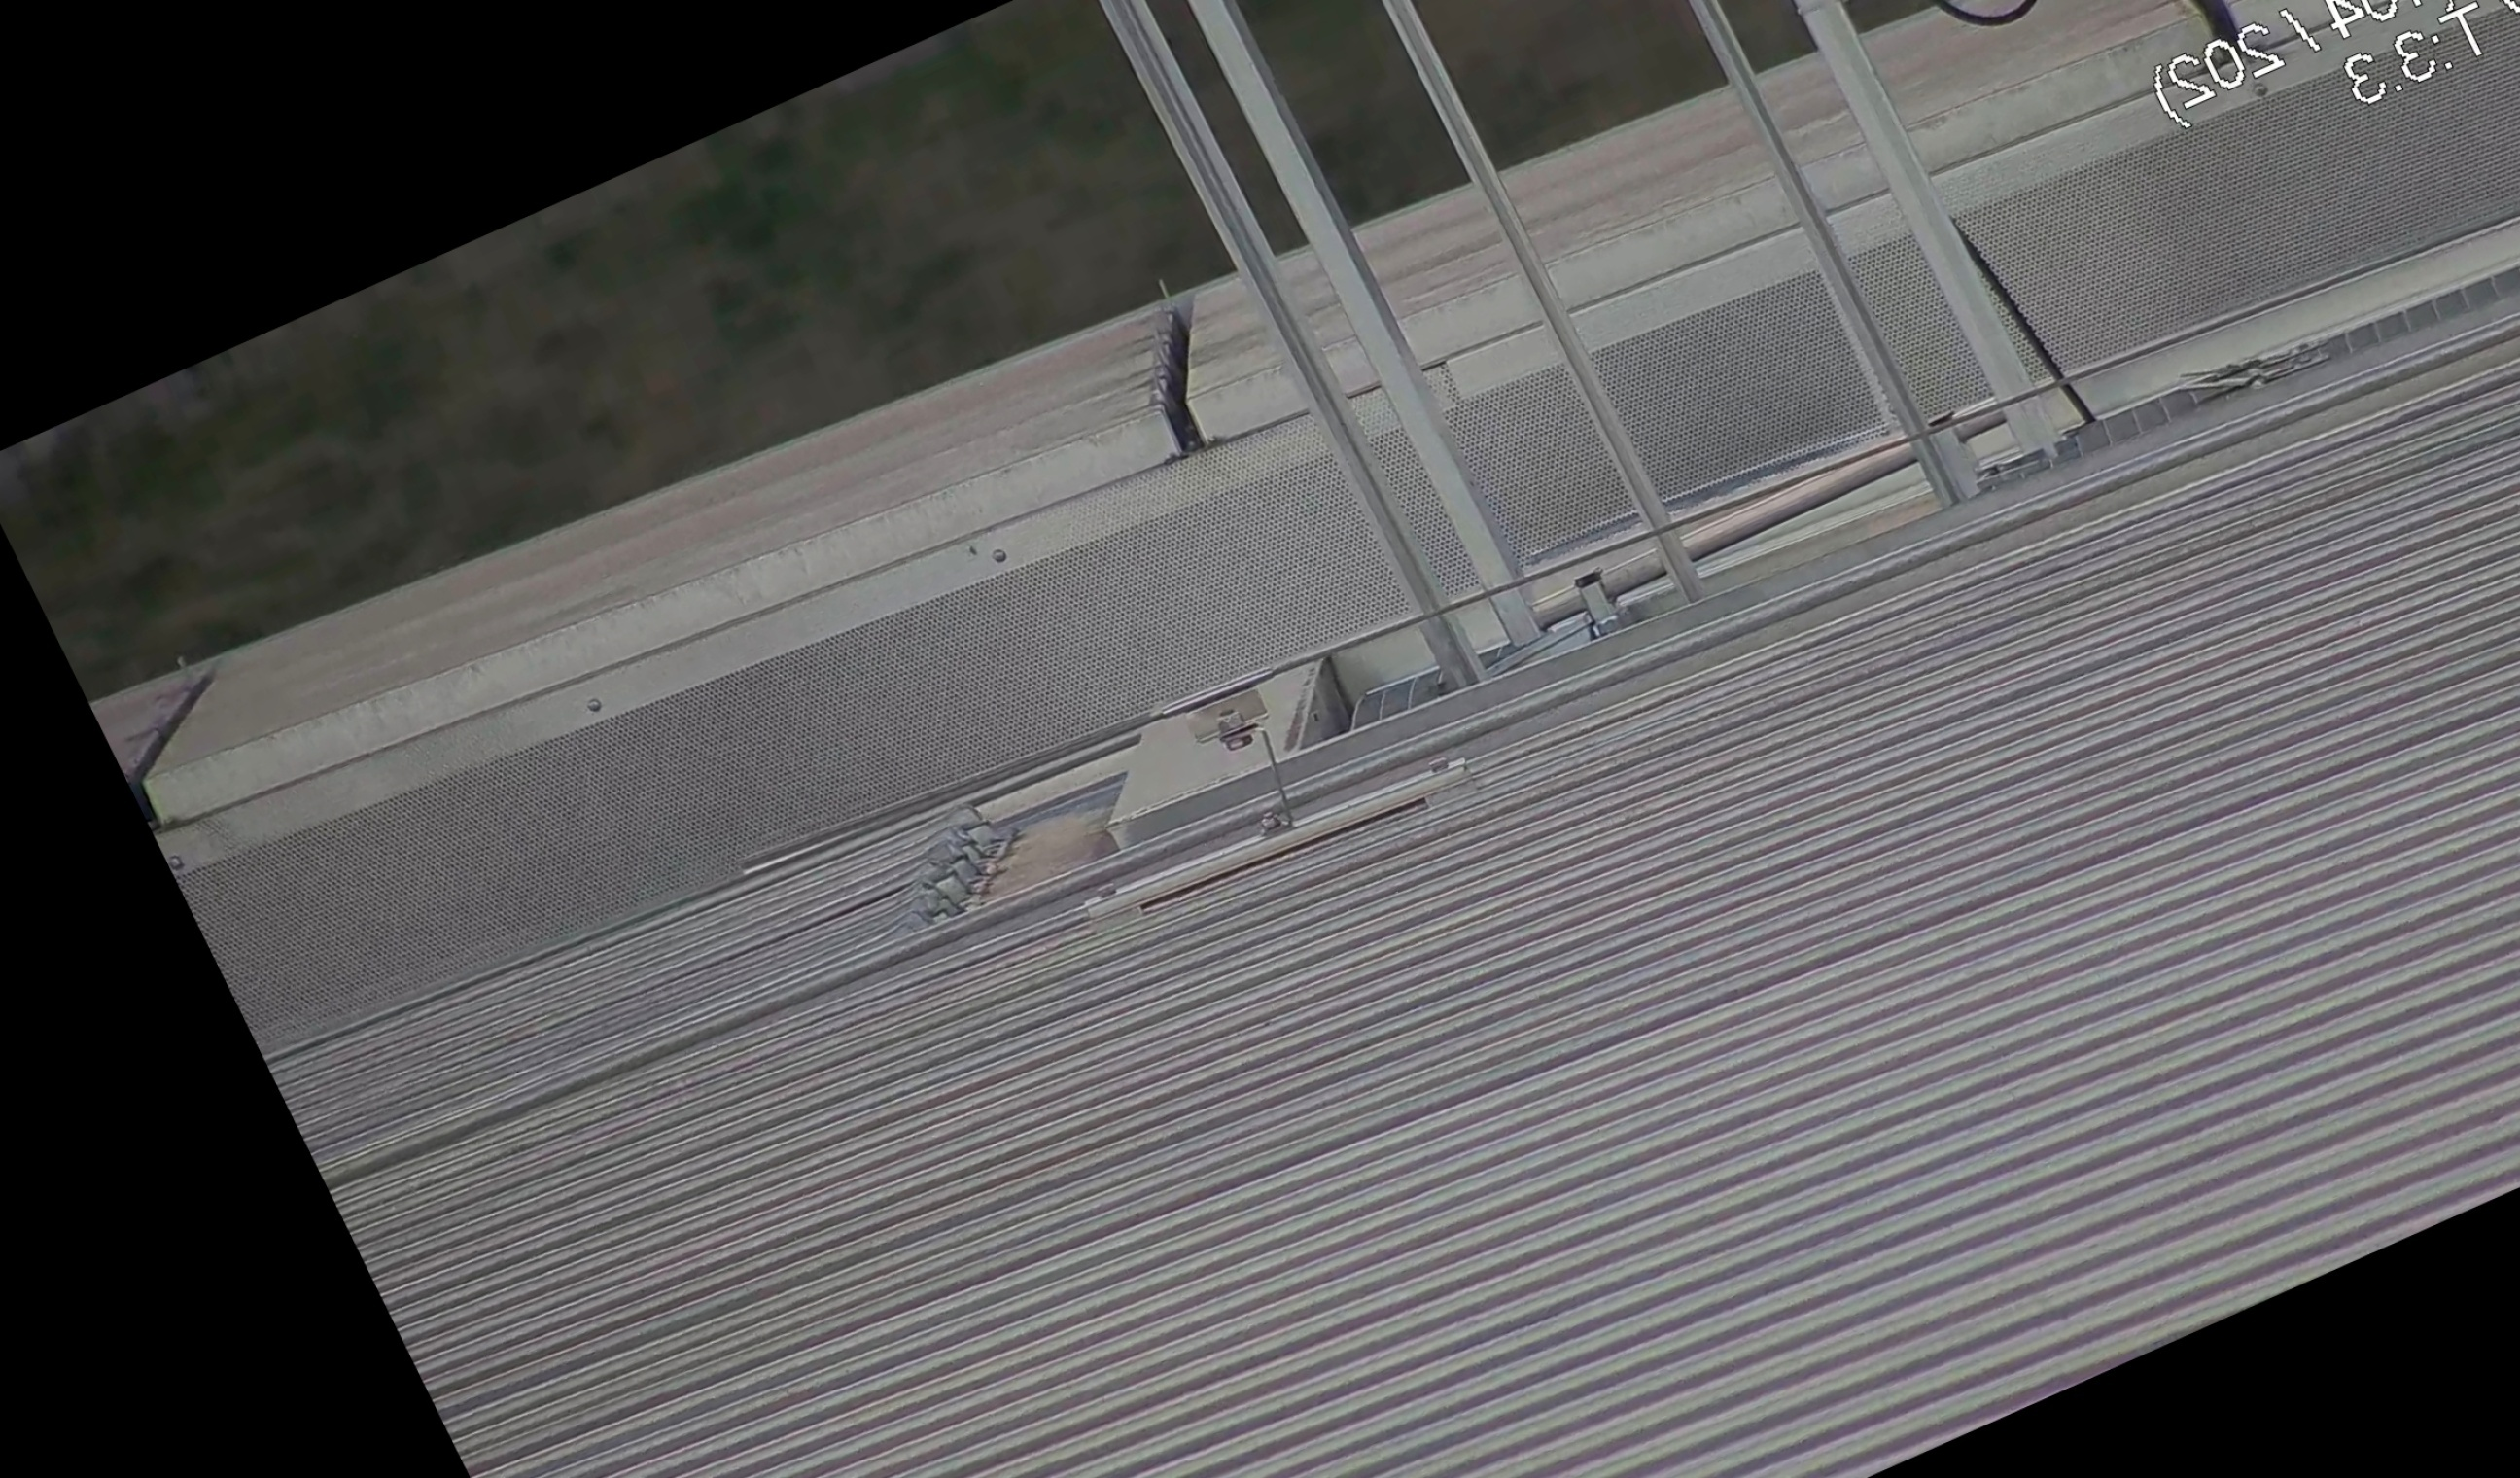Other: (1080, 264, 1259, 470)
